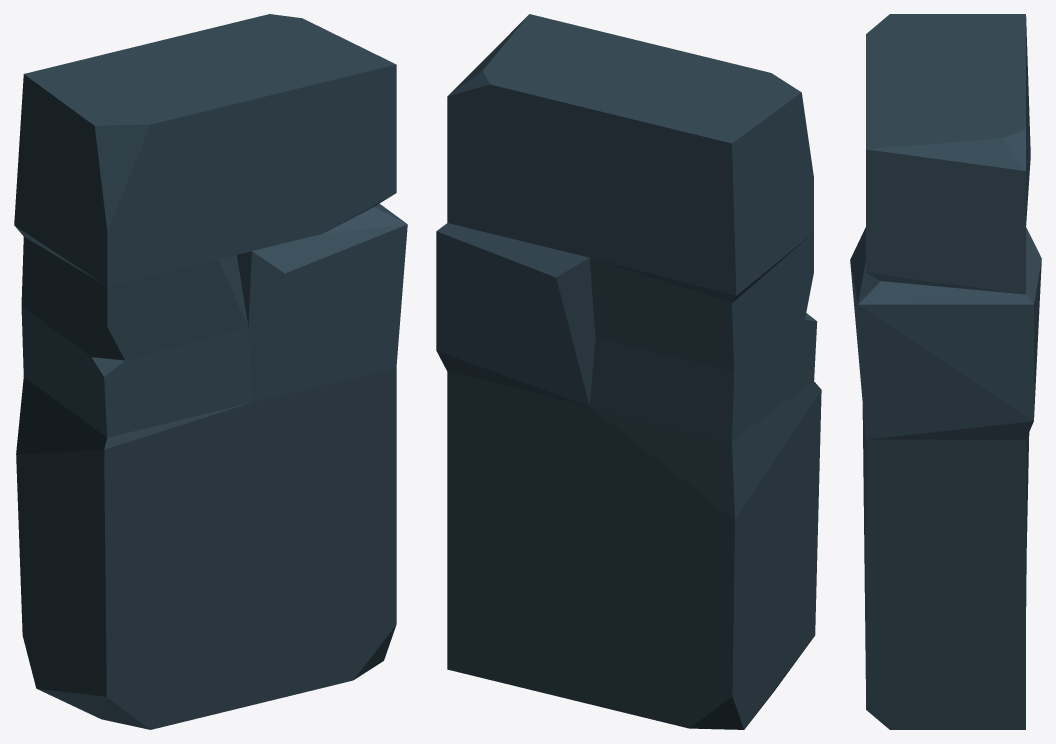
Rendered from level_element_1x2x4.fbx.
The picture shows the model from 3 angles, left to right: view 1: azimuth 30°, elevation 25°; view 2: azimuth 150°, elevation 25°; view 3: azimuth 270°, elevation 25°; orthographic projection. The views are drawn at different scales.
Parts seen in each view (by area): view 1: level_element_1x2x4; view 2: level_element_1x2x4; view 3: level_element_1x2x4.
Boxes of the visible parts, x1,y1,x2,y2 form: level_element_1x2x4: [14, 14, 407, 729]; level_element_1x2x4: [436, 14, 821, 729]; level_element_1x2x4: [850, 14, 1041, 729].
Bounding box in the file's own units: 210 × 400 × 120.
